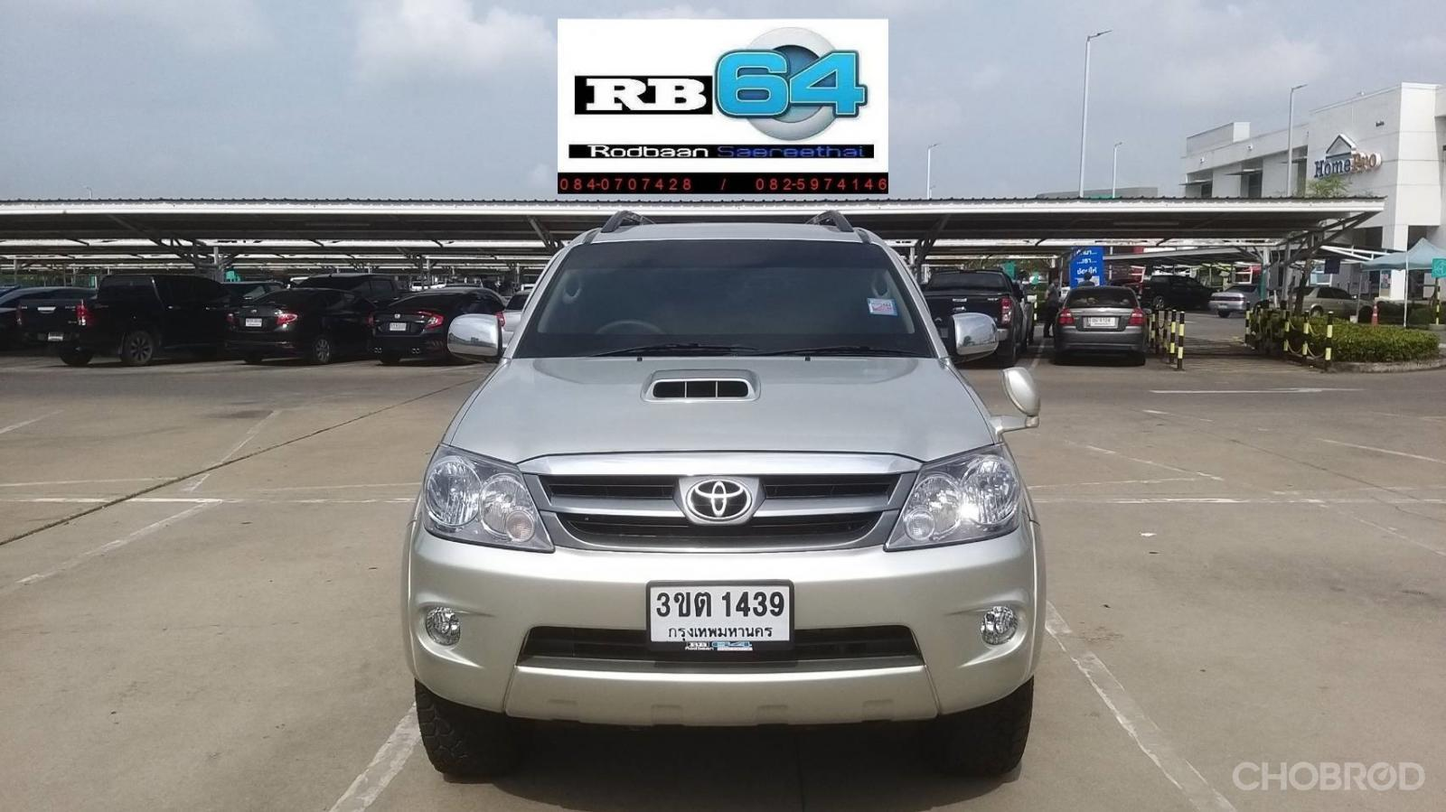license-plate: (647, 579, 798, 652), (1086, 316, 1124, 332), (385, 317, 409, 335), (243, 314, 263, 331)
